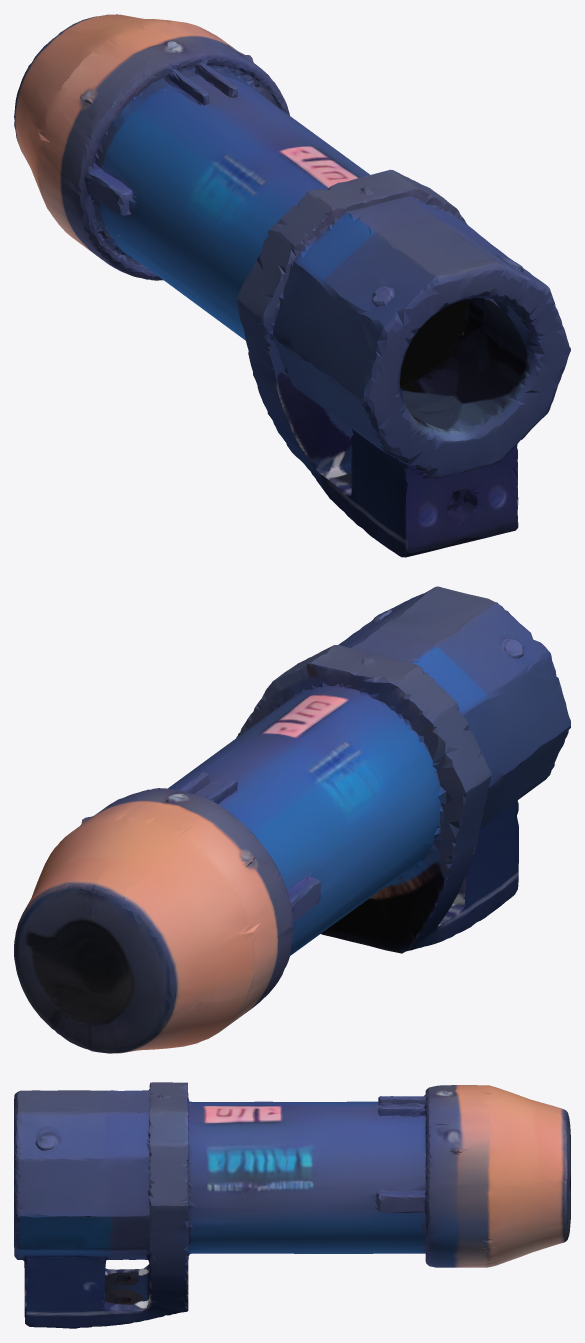
File: drifttuner_rocket.glb
3 renders of one model, top to bottom at view 1: azimuth 30°, elevation 25°; view 2: azimuth 150°, elevation 25°; view 3: azimuth 270°, elevation 25°, orthographic. The views are drawn at different scales.
Parts seen in each view (by area): view 1: Rocket_Drift_Tuner_x; view 2: Rocket_Drift_Tuner_x; view 3: Rocket_Drift_Tuner_x.
Part boxes in pixels (x1,y1,x2,y2): Rocket_Drift_Tuner_x: (14,14,570,557); Rocket_Drift_Tuner_x: (14,586,570,1053); Rocket_Drift_Tuner_x: (14,1082,570,1328).
Bounding box in the file's own units: 0.2097 × 0.2573 × 0.6004.
1 material, 1 textured.
